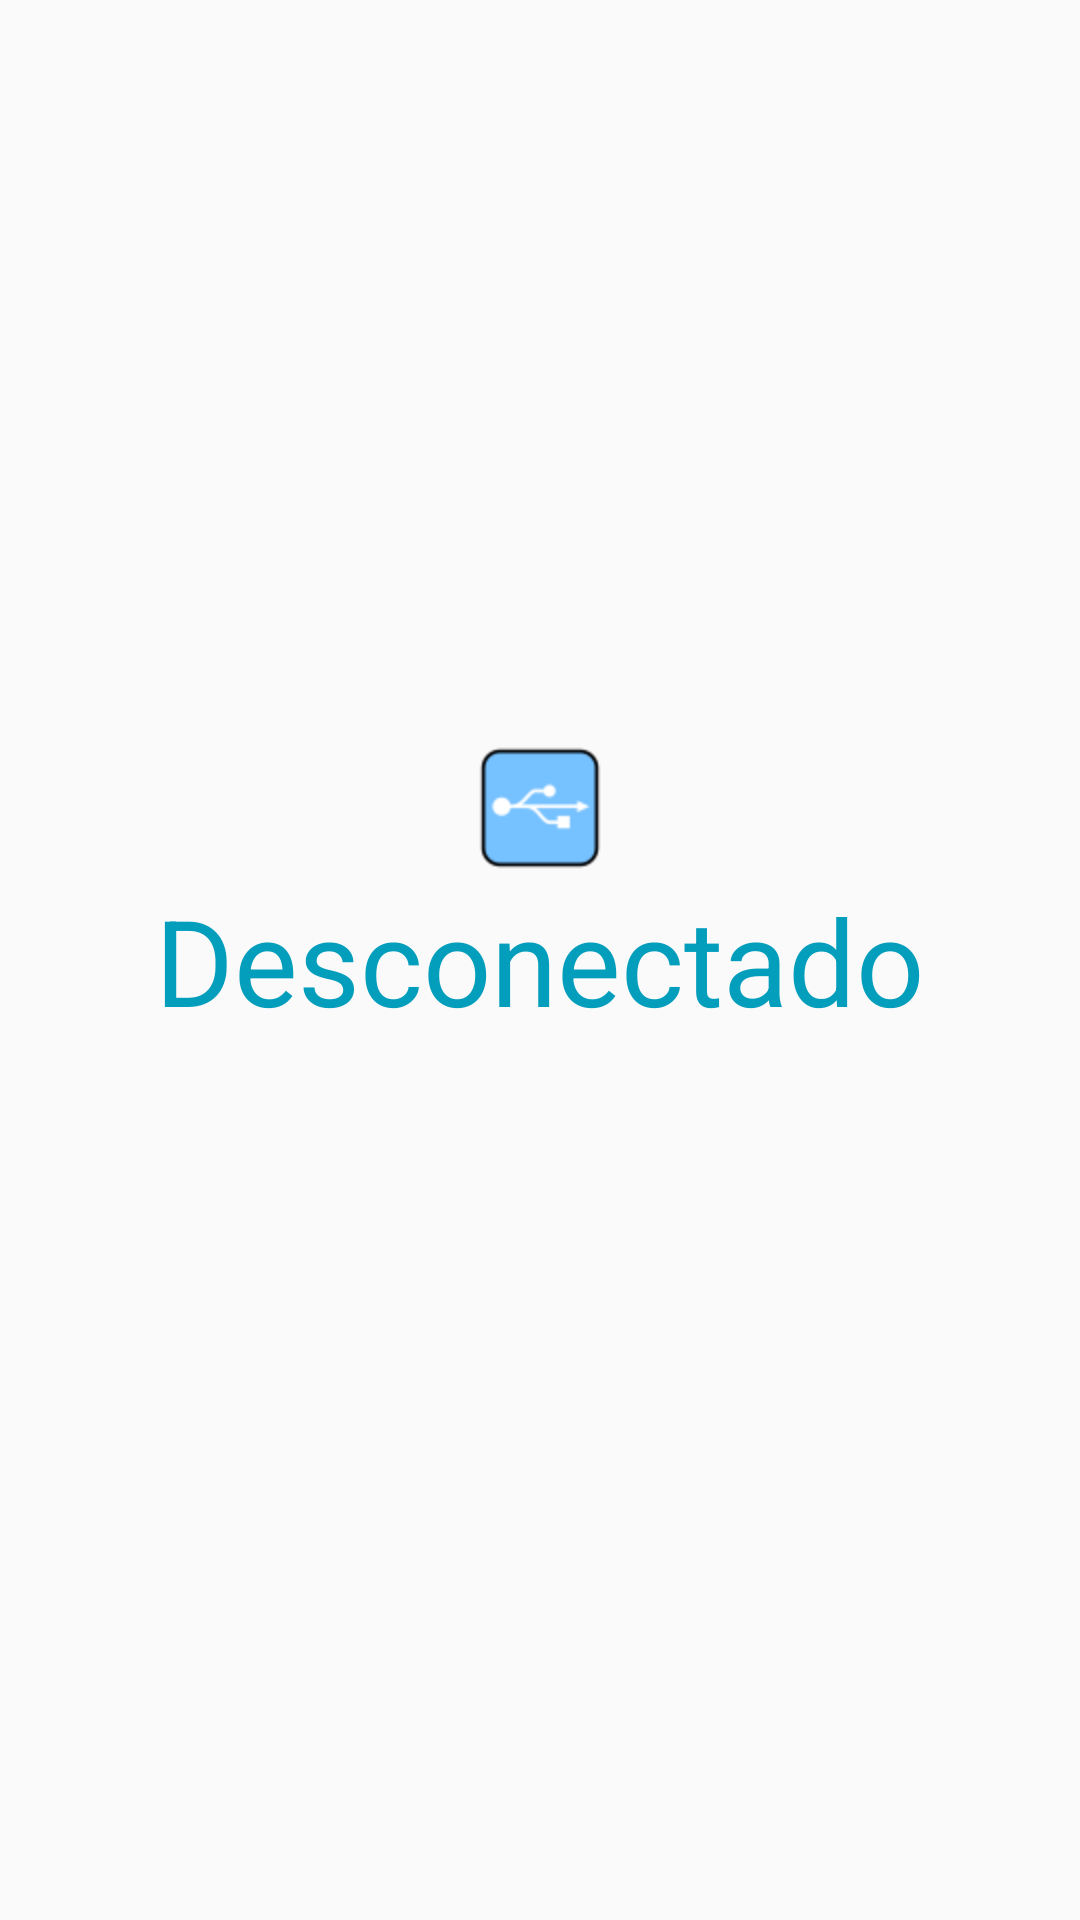

Named icons in this screenshot (1080*1920) and their centers, [x,y]:
no device: [540,808]
